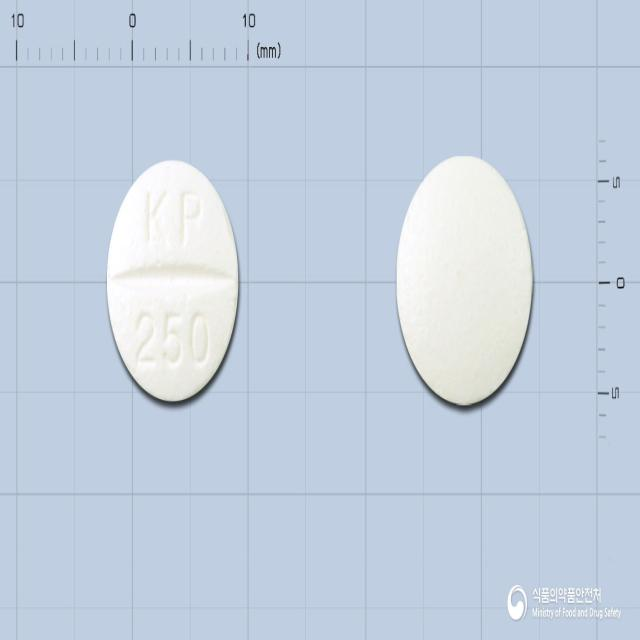Kipocin: (107, 158, 240, 402)
